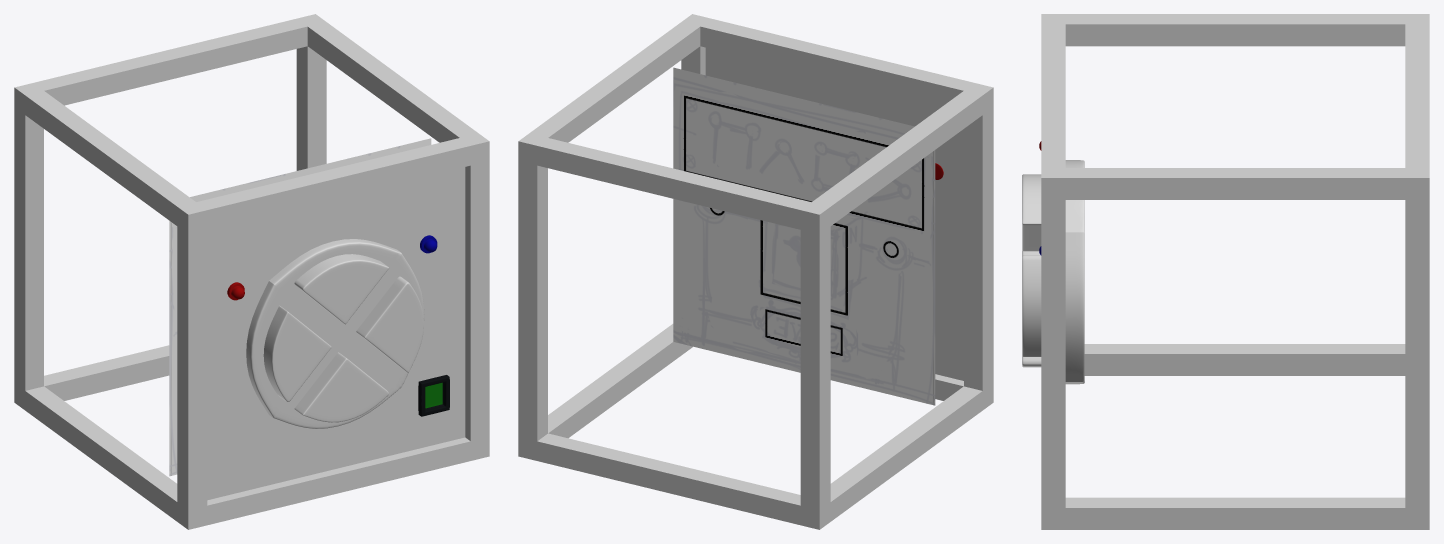
File: Simon_P2_01.fbx
3 views of the same model, side by side, from view 1: azimuth 30°, elevation 25°; view 2: azimuth 150°, elevation 25°; view 3: azimuth 270°, elevation 25° (orthographic). The views are drawn at different scales.
Visible parts, largest first — view 1: Display Plane, Box048, Box049, Box055, Box056, Box051, Box050, Box054, Box052, Box053, Pigpen P1 Layout, Cylinder055 (+10 smaller); view 2: Pigpen P1 Layout, Display Plane, Box055, Box056, Box046, Box057, Box048, Box049, Box054, Box052, Box053, Box047; view 3: Box047, Box053, Box054, Box052, Box051, Box046, Box049, Box056, Cylinder049, Cylinder053, Cylinder054, Cylinder048.
Boxes of the visible parts, <box> form: Display Plane: <box>207,167,465,500</box>; Box048: <box>177,215,207,529</box>; Box049: <box>188,138,488,229</box>; Box055: <box>14,88,43,402</box>; Box056: <box>15,14,315,105</box>; Box051: <box>465,141,489,456</box>; Box050: <box>188,437,489,529</box>; Box054: <box>14,87,195,226</box>; Box052: <box>14,386,187,529</box>; Box053: <box>307,14,488,142</box>; Pigpen P1 Layout: <box>169,138,431,476</box>; Cylinder055: <box>263,305,331,401</box>; Pigpen P1 Layout: <box>673,67,935,405</box>; Display Plane: <box>705,47,963,380</box>; Box055: <box>800,215,830,529</box>; Box056: <box>519,138,819,229</box>; Box046: <box>518,141,547,456</box>; Box057: <box>518,433,819,529</box>; Box048: <box>964,88,993,402</box>; Box049: <box>692,14,992,105</box>; Box054: <box>812,87,993,226</box>; Box052: <box>820,386,993,529</box>; Box053: <box>519,14,700,142</box>; Box047: <box>548,324,692,438</box>; Box047: <box>1042,497,1429,529</box>; Box053: <box>1041,168,1429,199</box>; Box054: <box>1042,14,1428,46</box>; Box052: <box>1084,344,1405,375</box>; Box051: <box>1041,178,1065,529</box>; Box046: <box>1405,178,1429,529</box>; Box049: <box>1041,14,1065,177</box>; Box056: <box>1405,14,1429,177</box>; Cylinder049: <box>1065,232,1084,381</box>; Cylinder053: <box>1022,255,1041,356</box>; Cylinder054: <box>1022,174,1041,251</box>; Cylinder048: <box>1065,160,1084,232</box>.
Bounding box in the file's own units: 126 × 126 × 132.
5 materials, 1 textured.
